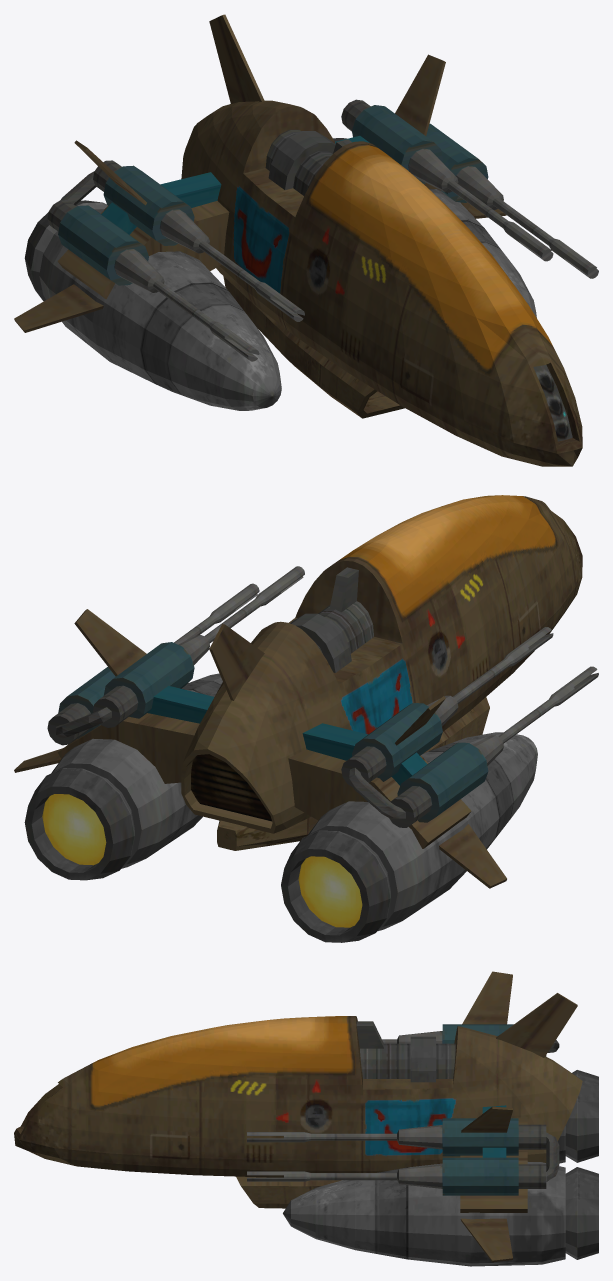
Rendered from Sing_Fighter.obj.
3 views of the same model, one above another, from view 1: azimuth 30°, elevation 25°; view 2: azimuth 150°, elevation 25°; view 3: azimuth 270°, elevation 25° (orthographic). The views are drawn at different scales.
Parts seen in each view (by area): view 1: Hull; view 2: Hull; view 3: Hull.
Boxes of the visible parts, x1=… form: Hull: x1=14, y1=14, x2=598, y2=466; Hull: x1=14, y1=495, x2=598, y2=942; Hull: x1=14, y1=971, x2=598, y2=1266.
Size of the model in its own units: 102 by 57.28 by 138.
